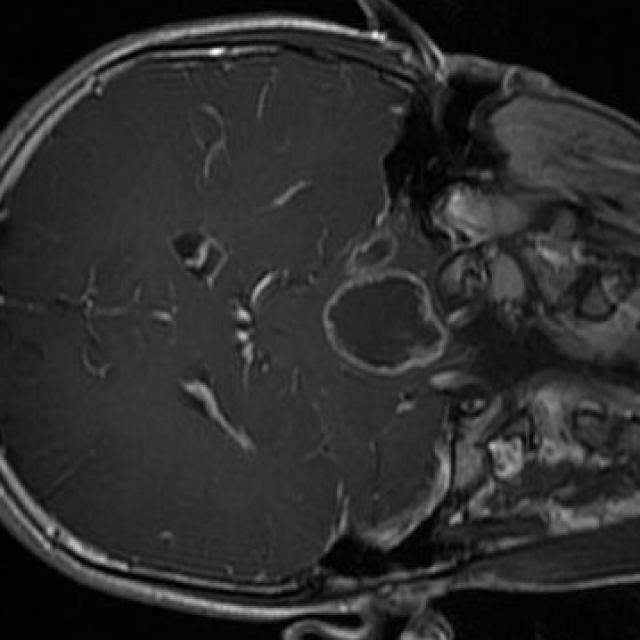glioma: (321, 217, 447, 378)
